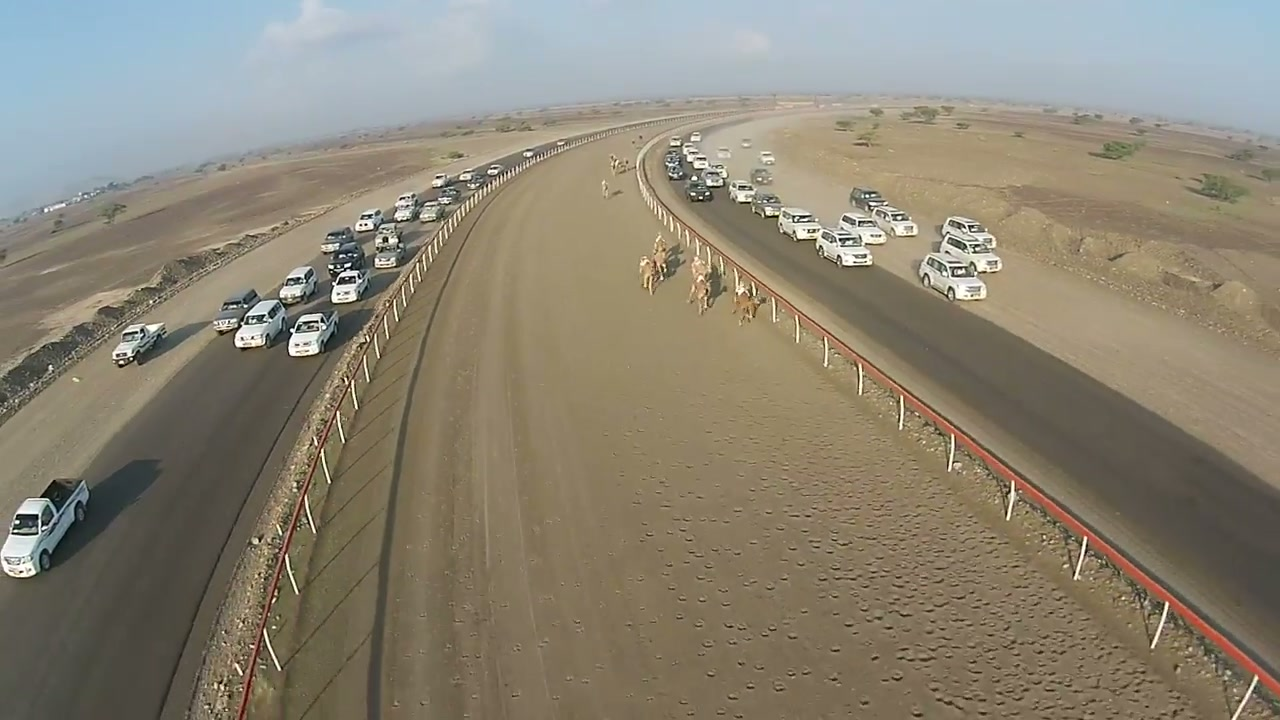animal_foot_print: (639, 369, 997, 708), (813, 477, 1166, 709)
